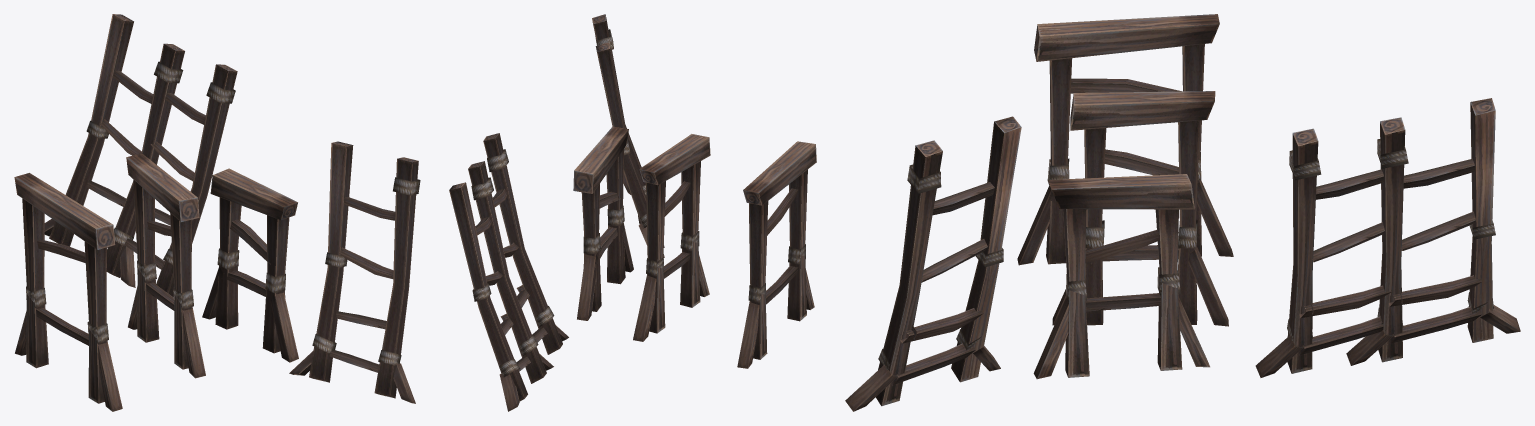
Rendered from object_mine_reinforcements.fbx.
3 views of the same model, side by side, from view 1: azimuth 30°, elevation 25°; view 2: azimuth 150°, elevation 25°; view 3: azimuth 270°, elevation 25° (orthographic). The views are drawn at different scales.
Parts seen in each view (by area): view 1: mine_supports; view 2: mine_supports; view 3: mine_supports.
Boxes of the visible parts, x1,y1,x2,y2 form: mine_supports: (14, 14, 420, 411); mine_supports: (449, 14, 816, 411); mine_supports: (845, 14, 1520, 411).
Size of the model in its own units: 14.23 by 10.61 by 22.47.
